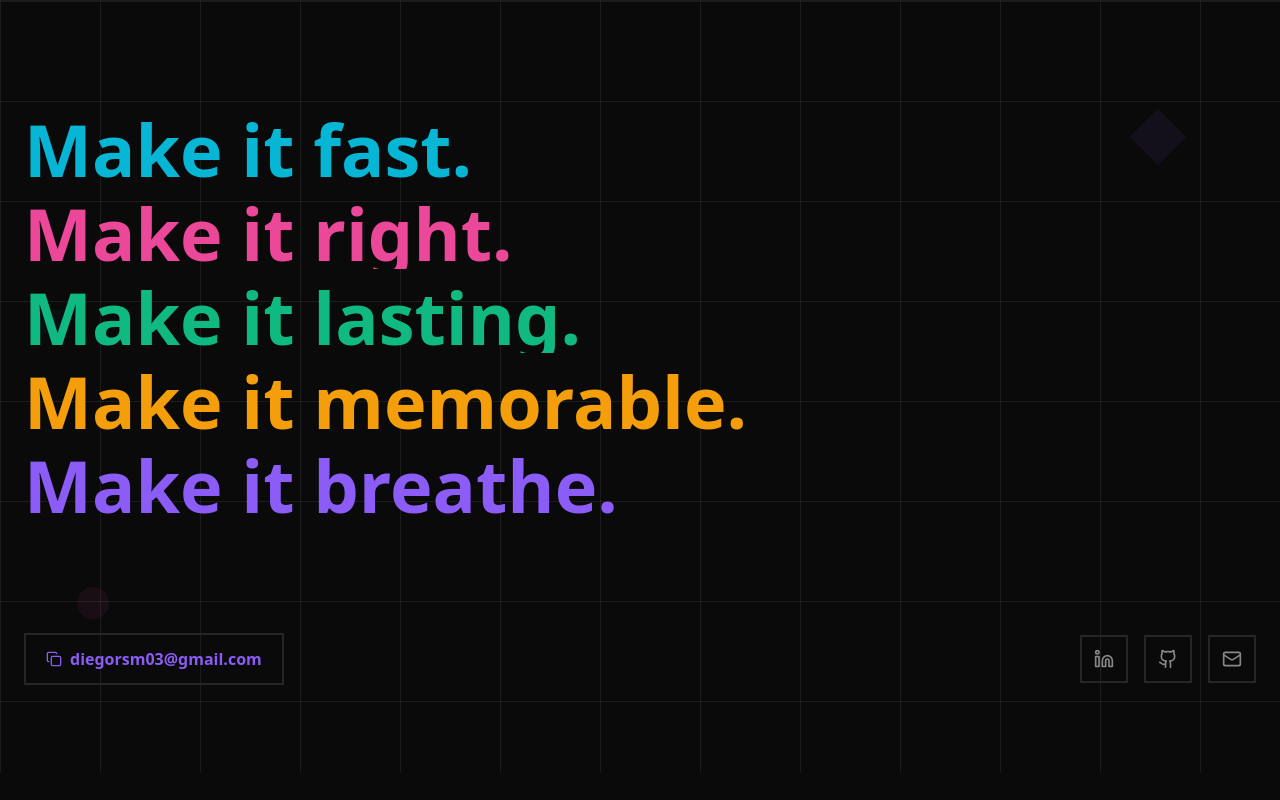
Test: Contact Section › Copy Email Interaction › shows copied text after clicking
The image size is (1280, 800).
Click the button "diegorsm03@gmail.com" at x=154, y=659, box x1=24 y1=633 x2=284 y2=685
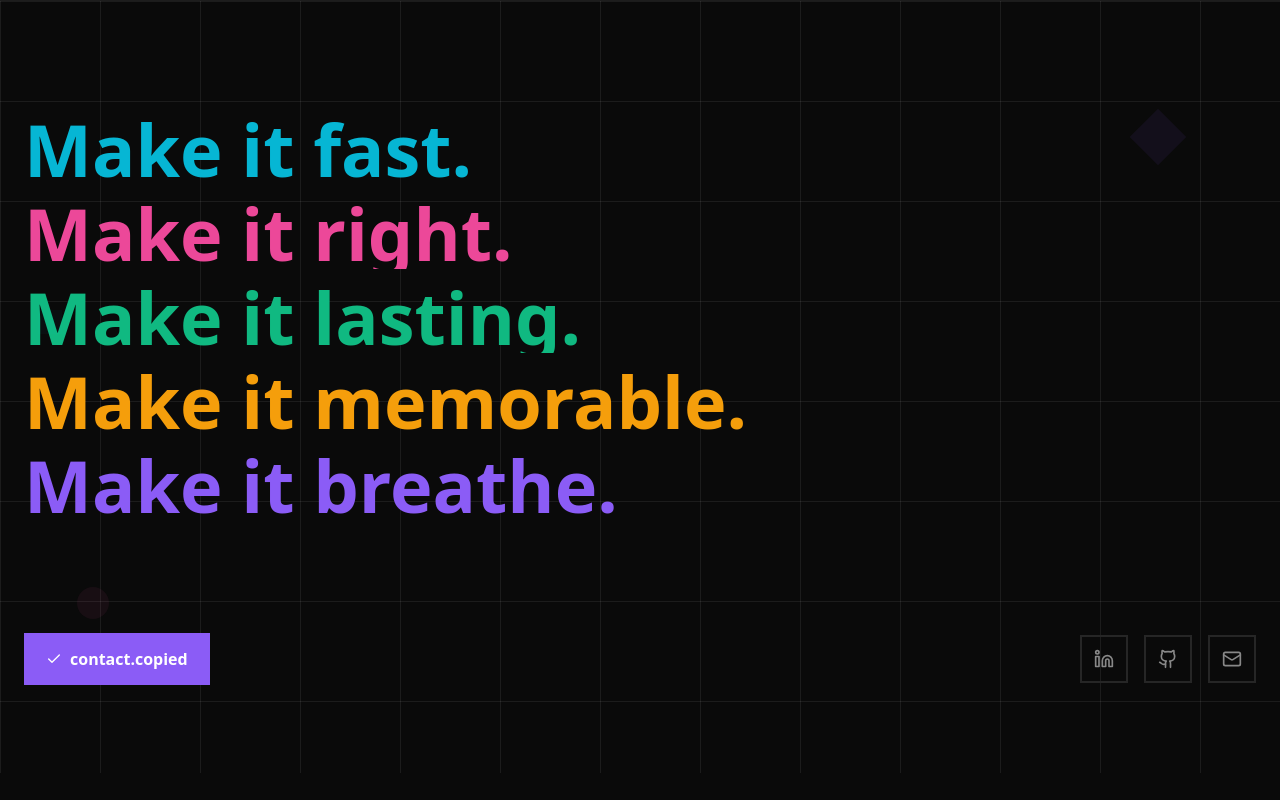
Expected: the text "contact.copied" is shown, x1=46 y1=647 x2=188 y2=671
